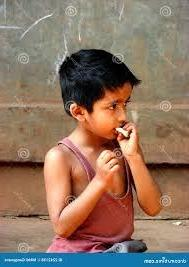Human: (42, 44, 158, 250)
